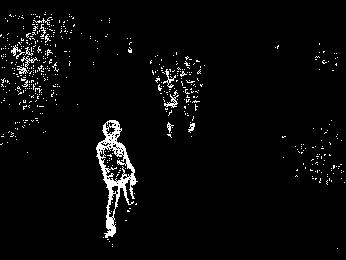person: (96, 119, 137, 239), (158, 68, 177, 137)
